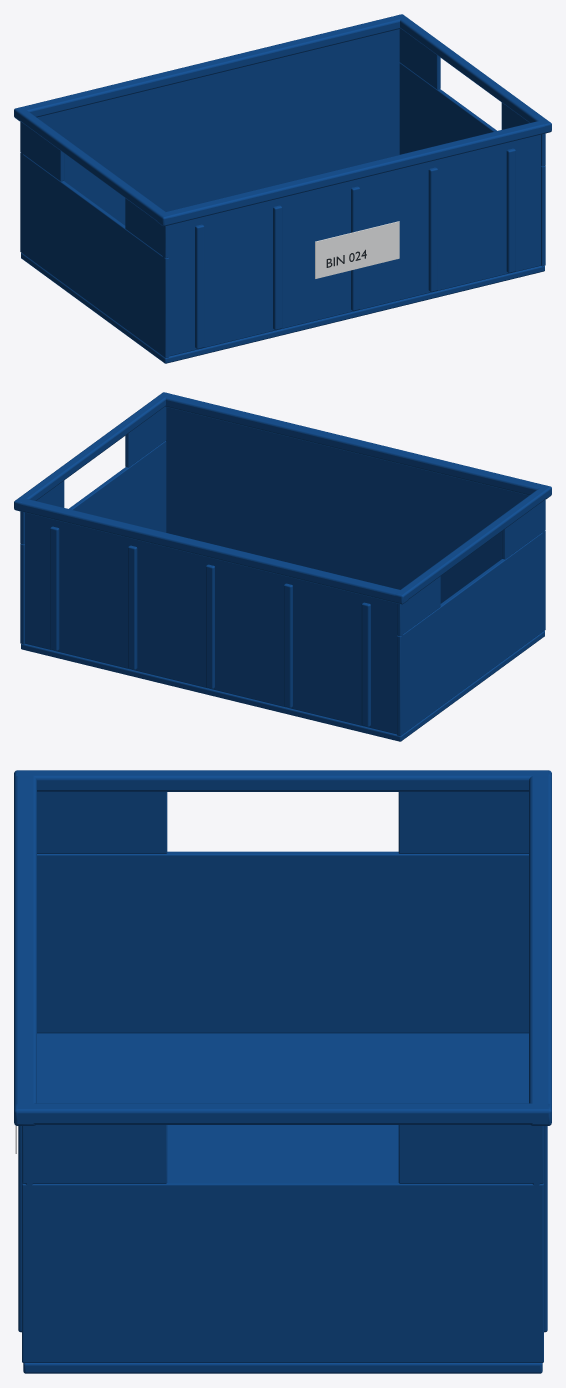
The model's file is tote_600x400.glb.
The picture shows the model from 3 angles, top to bottom: view 1: azimuth 30°, elevation 25°; view 2: azimuth 150°, elevation 25°; view 3: azimuth 270°, elevation 25°; orthographic projection. The views are drawn at different scales.
Parts seen in each view (by area): view 1: Tote side, Tote side.001, End below handle, Top rim long, Top rim long.001, End below handle.001, Tote bottom, Tote identity plate, Handle bridge, Handle bridge.001, Handle side.003, Handle side.001 (+7 smaller); view 2: Tote side.001, Tote side, End below handle, Top rim long.001, Top rim long, End below handle.001, Tote bottom, Handle bridge, Handle bridge.001, Handle side.002, Handle side, Handle side.001 (+6 smaller); view 3: End below handle.001, End below handle, Tote bottom, Handle bridge.001, Handle bridge, Handle side.002, Handle side.003, Handle side, Handle side.001, Top rim long.001, Top rim long, Tote side.001 (+3 smaller).
Boxes of the visible parts, <box> form: Tote side: <box>162,121,543,356</box>; Tote side.001: <box>21,18,400,252</box>; End below handle: <box>20,152,168,357</box>; Top rim long: <box>157,119,551,226</box>; Top rim long.001: <box>14,14,405,121</box>; End below handle.001: <box>399,63,545,266</box>; Tote bottom: <box>21,253,544,363</box>; Tote identity plate: <box>315,221,399,278</box>; Handle bridge: <box>14,107,170,224</box>; Handle bridge.001: <box>396,14,551,130</box>; Handle side.003: <box>399,28,440,89</box>; Handle side.001: <box>20,121,64,181</box>; Tote side.001: <box>22,499,403,734</box>; Tote side: <box>166,396,544,630</box>; End below handle: <box>397,530,545,735</box>; Top rim long.001: <box>14,497,408,604</box>; Top rim long: <box>160,392,551,499</box>; End below handle.001: <box>20,441,166,644</box>; Tote bottom: <box>21,631,544,741</box>; Handle bridge: <box>395,485,551,602</box>; Handle bridge.001: <box>14,392,169,509</box>; Handle side.002: <box>125,406,166,467</box>; Handle side: <box>501,499,545,559</box>; Handle side.001: <box>397,576,440,636</box>; End below handle.001: <box>22,1181,543,1362</box>; End below handle: <box>37,851,528,1033</box>; Tote bottom: <box>23,1033,542,1373</box>; Handle bridge.001: <box>14,1103,551,1124</box>; Handle bridge: <box>14,770,551,791</box>; Handle side.002: <box>22,1125,167,1183</box>; Handle side.003: <box>398,1125,543,1183</box>; Handle side: <box>37,791,167,853</box>; Handle side.001: <box>398,791,528,853</box>; Top rim long.001: <box>529,770,551,1125</box>; Top rim long: <box>14,770,36,1125</box>; Tote side.001: <box>533,774,539,1361</box>.
Size of the model in its own units: 0.6 by 0.22 by 0.4.
